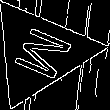M_SE: (5, 21, 76, 84)
